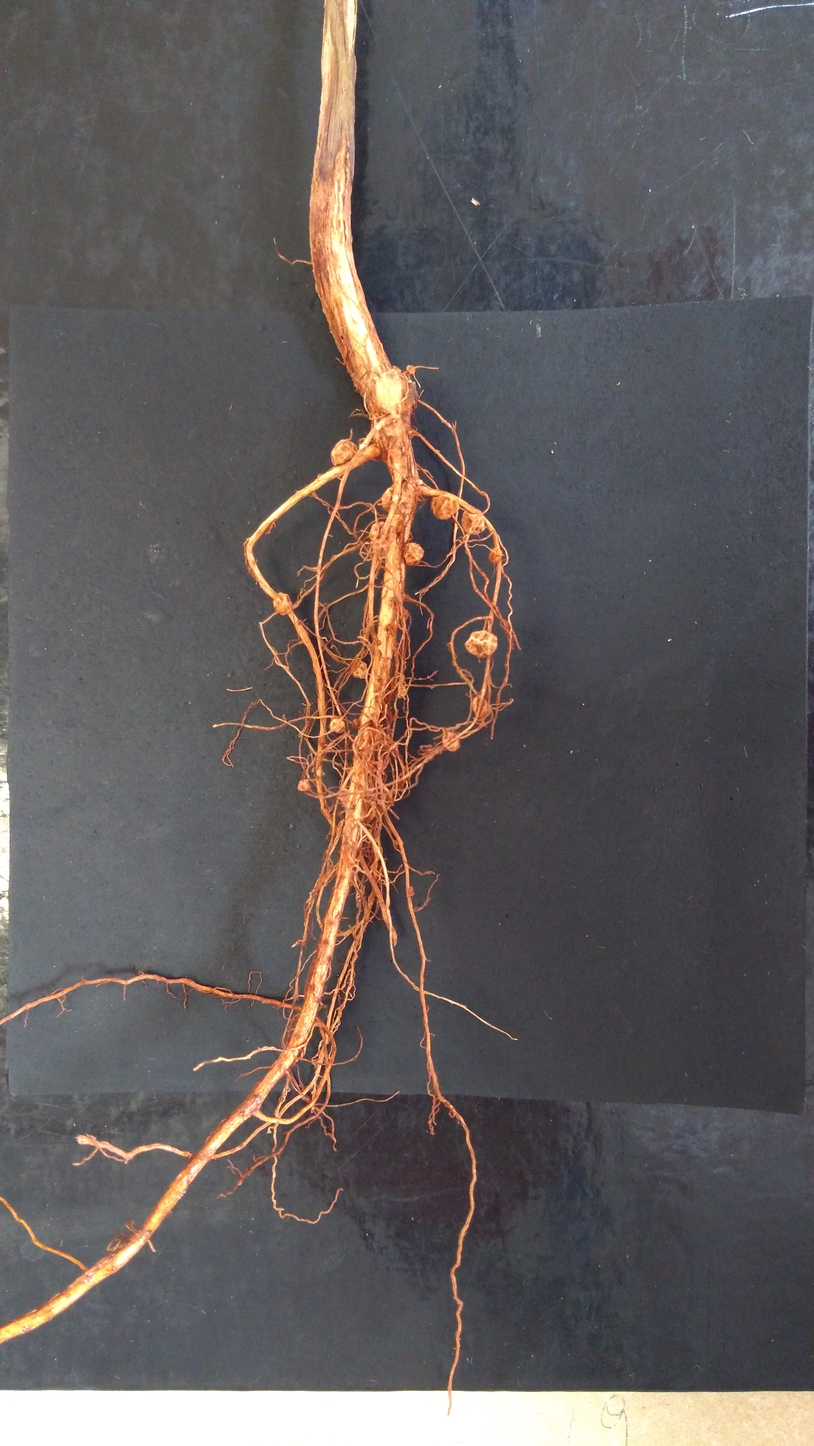nodule: (376, 366, 417, 414), (464, 630, 498, 658), (431, 494, 460, 520), (330, 439, 357, 465), (461, 510, 485, 535), (404, 543, 424, 566), (273, 593, 293, 616), (372, 534, 390, 557), (472, 696, 490, 718), (442, 730, 460, 751), (381, 484, 394, 513), (351, 660, 368, 678), (369, 521, 385, 540), (390, 682, 406, 698), (488, 547, 502, 564), (329, 719, 346, 733), (297, 780, 311, 792), (402, 609, 409, 622), (407, 886, 415, 897), (406, 365, 415, 374), (316, 770, 326, 778), (395, 838, 404, 846), (353, 718, 360, 726)
